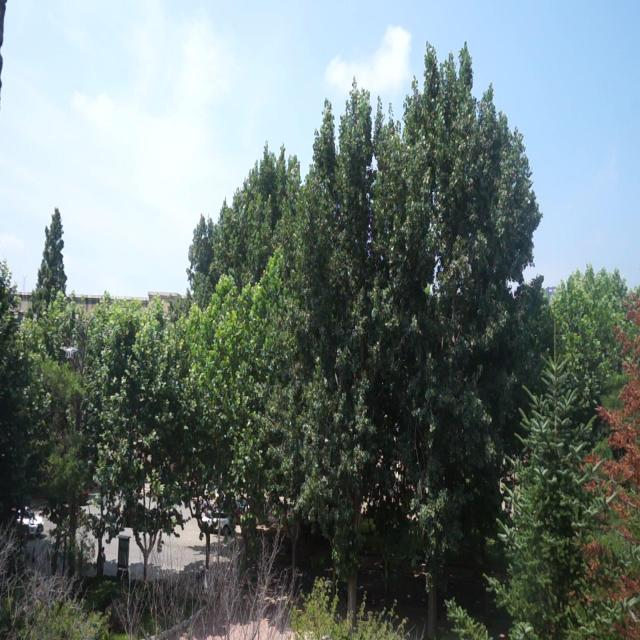drone: (58, 336, 80, 362)
